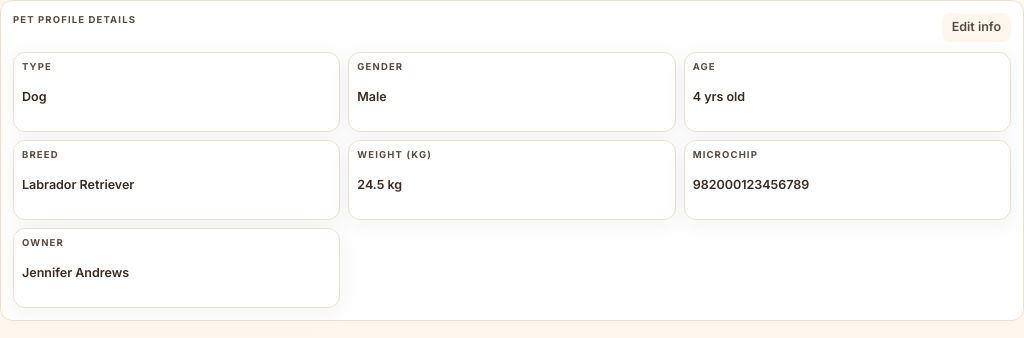
Test: PetProfileDetailsPanel › saves edited values and returns to read-only view on success
The image size is (1024, 338).
Click the button "Edit info". click: (976, 27)
box: [942,13,1011,42]
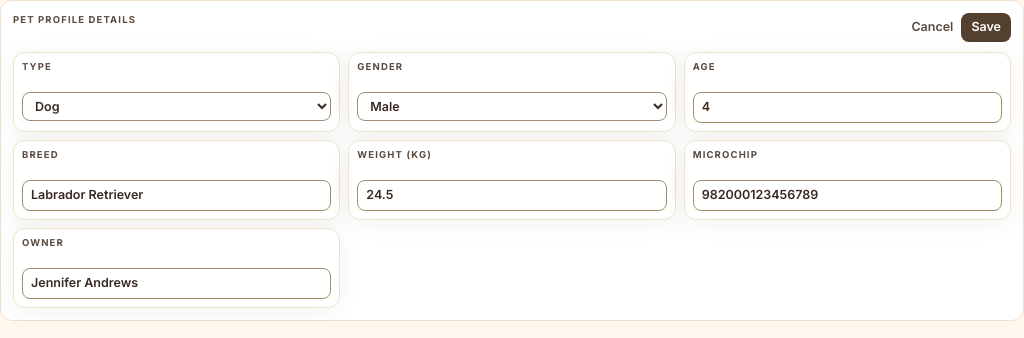
Select "Cat" in the dropdown named "Type". click: (177, 107)
box: [22,92,331,121]
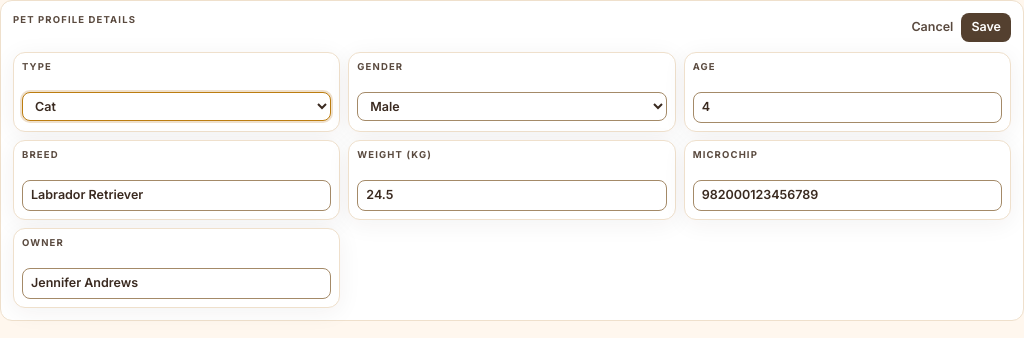
Replace the text in the field named "Owner" with "New Owner". click: (177, 284)
box: [22,268,331,299]
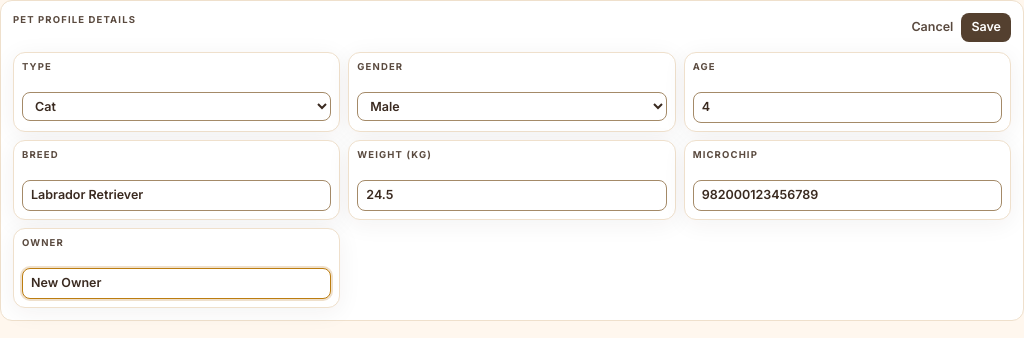
Click the button "Save". click: (986, 27)
box: [961,13,1011,42]
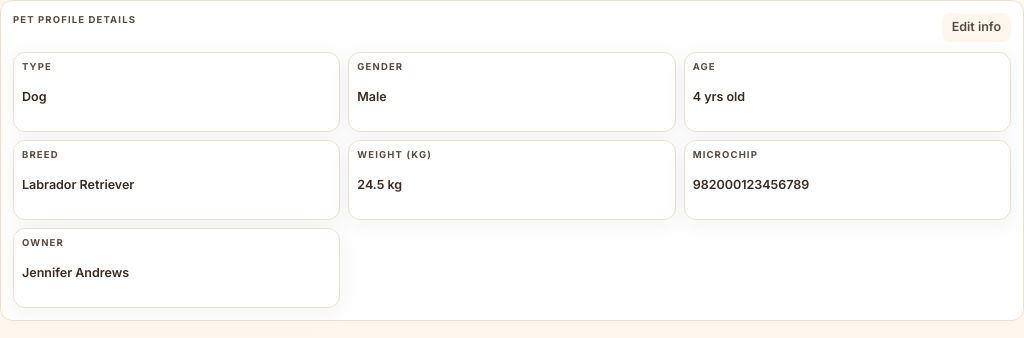
Expected: the button "Edit info" is shown, [942,13,1011,42]
